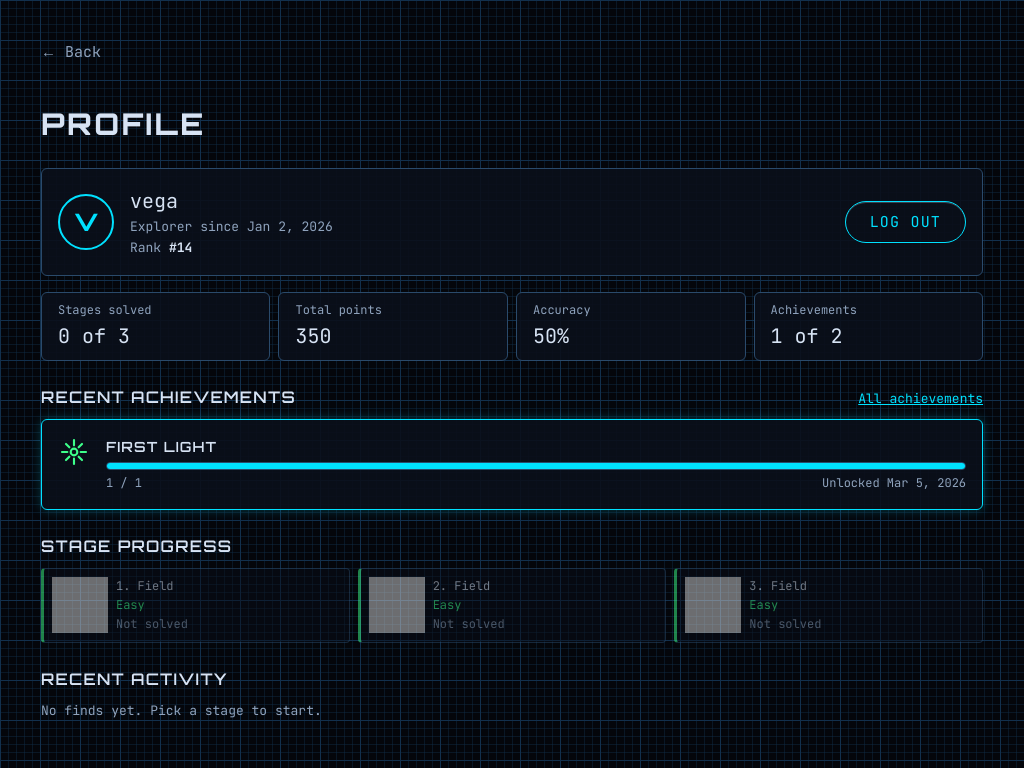
it: ProfileScreen › a logged-in player sees name, points, rank and can log out
Expected: the text "vega" is shown, [130,188,178,214]
Expected: the text "#14" is shown, [169,239,192,256]
Click the button "Log out".
click(905, 222)  # box [845,201,966,243]
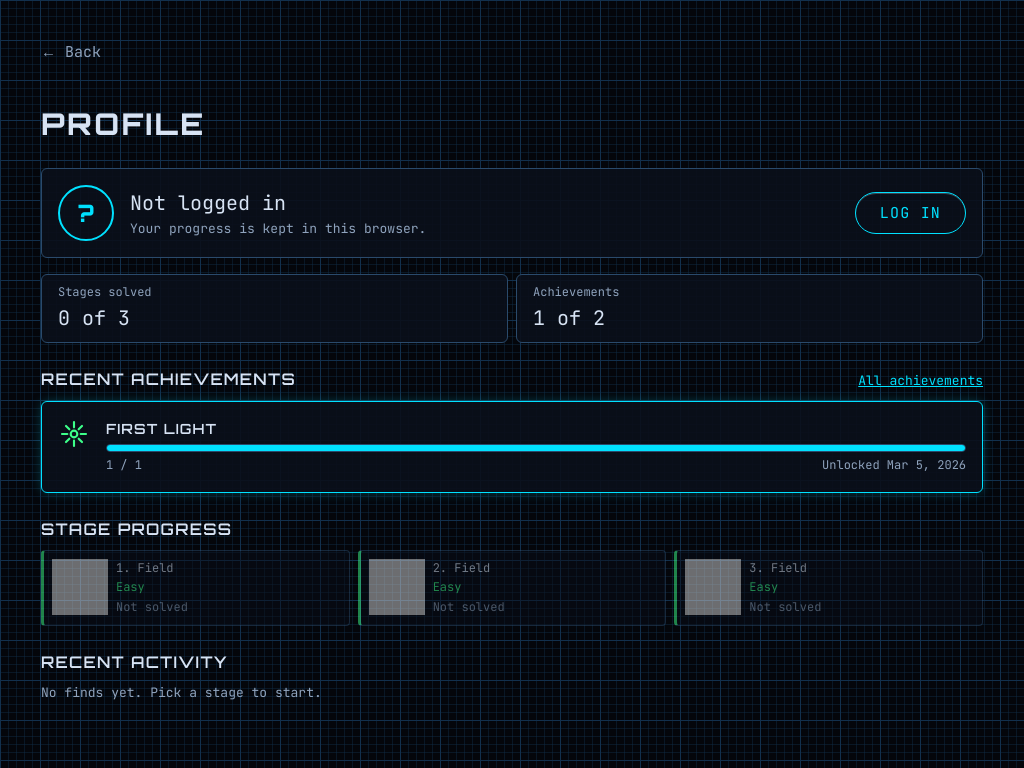
Now the text "Not logged in" is shown, box [130,190,286,216]
